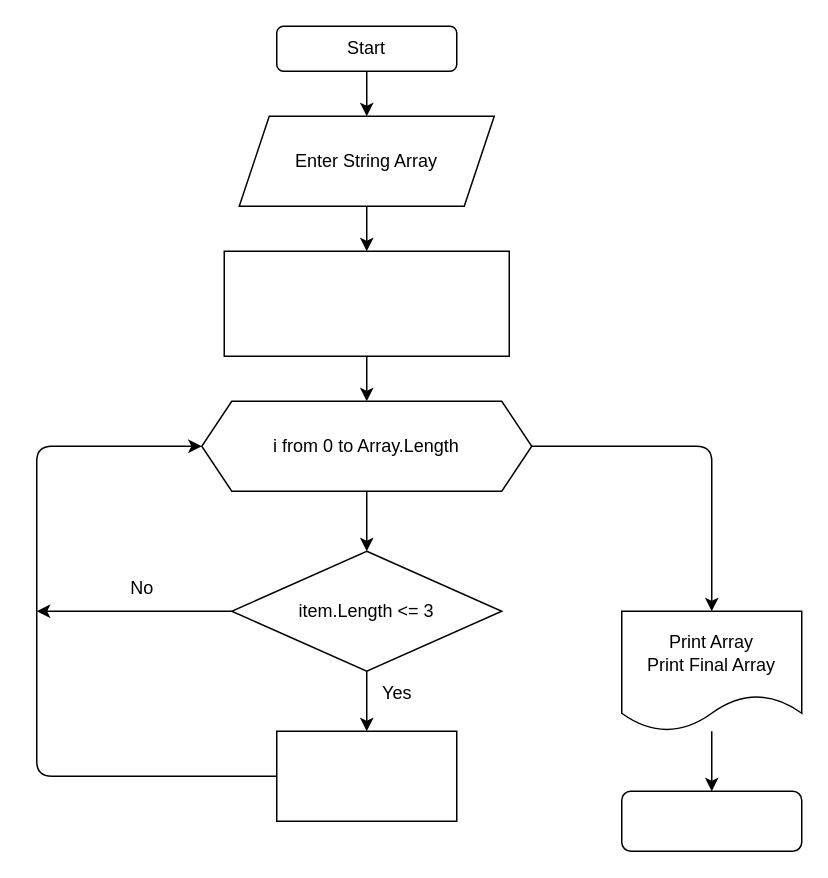
Some shapes in this 828 by 878 pixel diagram are drawn without their labels. Here are the shapes that lost their labels. From the top down, the box of each, then its label:
(223, 250, 509, 356): i = 0; Array; Final Array; Sum = 0;
(275, 730, 457, 821): FinalArray[i] = item; Sum++; i++;
(620, 790, 802, 851): Stop
